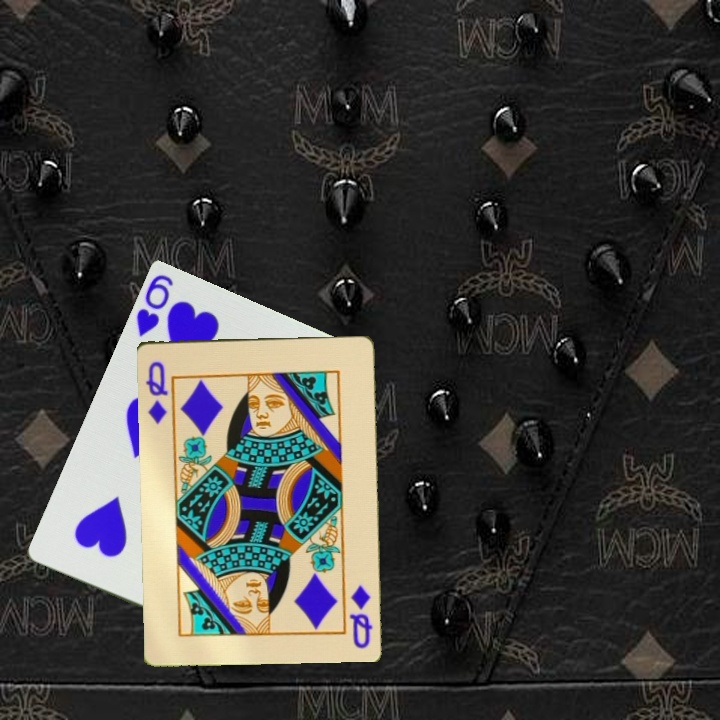6h: (133, 271, 177, 341)
Qd: (346, 581, 375, 651), (142, 357, 170, 427)
